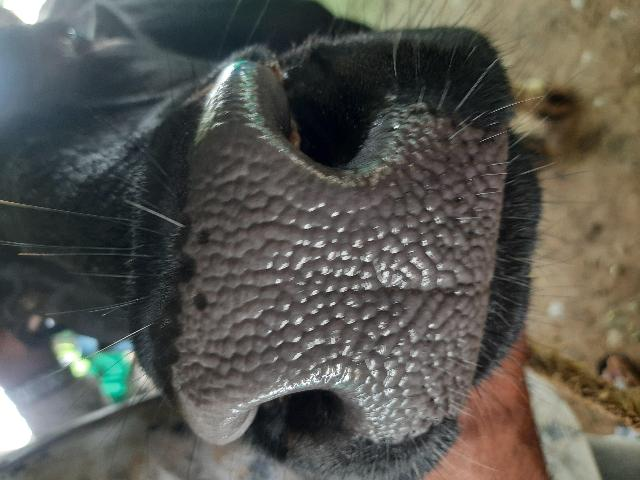Muzzle: (187, 138, 498, 392)
